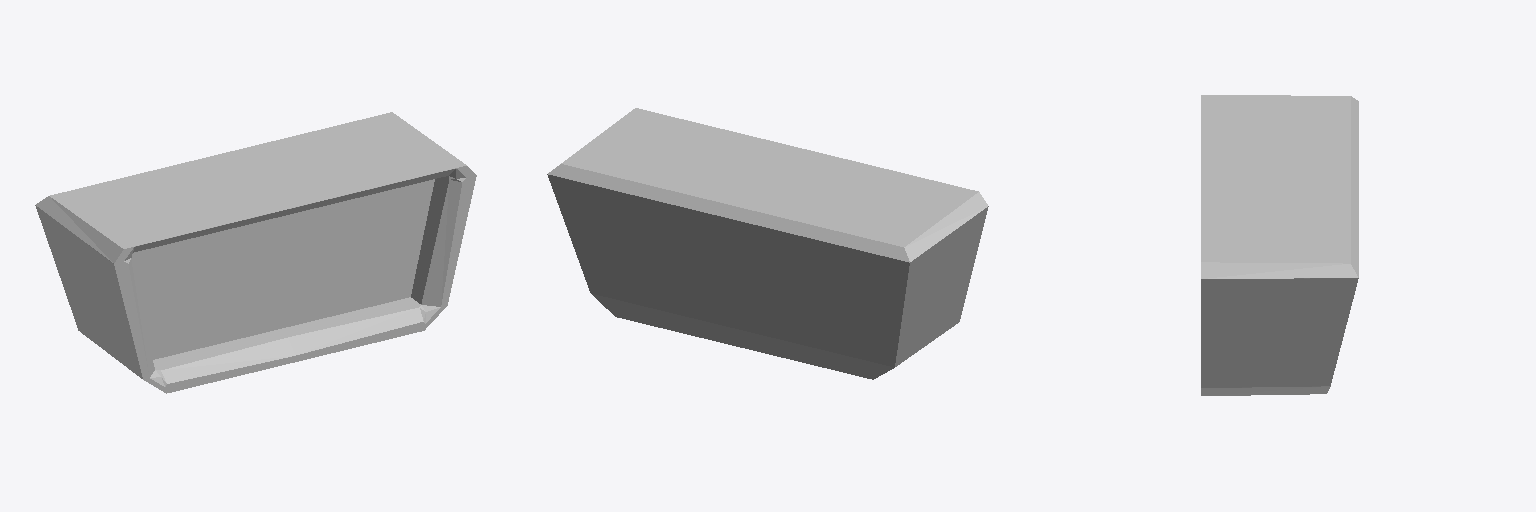
File: CabezaRobot1.obj
3 renders of one model, left to right at view 1: azimuth 30°, elevation 25°; view 2: azimuth 150°, elevation 25°; view 3: azimuth 270°, elevation 25°, orthographic.
Parts seen in each view (by area): view 1: CabezaRobot1; view 2: CabezaRobot1; view 3: CabezaRobot1.
Boxes of the visible parts, <box> form: CabezaRobot1: <box>35,112,476,393</box>; CabezaRobot1: <box>547,108,988,379</box>; CabezaRobot1: <box>1201,95,1358,395</box>.
Size of the model in its own units: 2.45 by 1 by 0.9223.